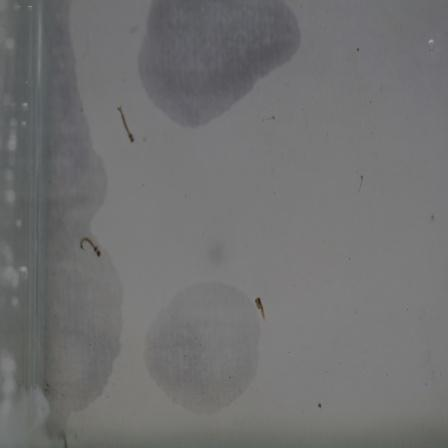Jentik-Nyamuk: (113, 99, 138, 148), (76, 233, 105, 263), (252, 293, 269, 324)
